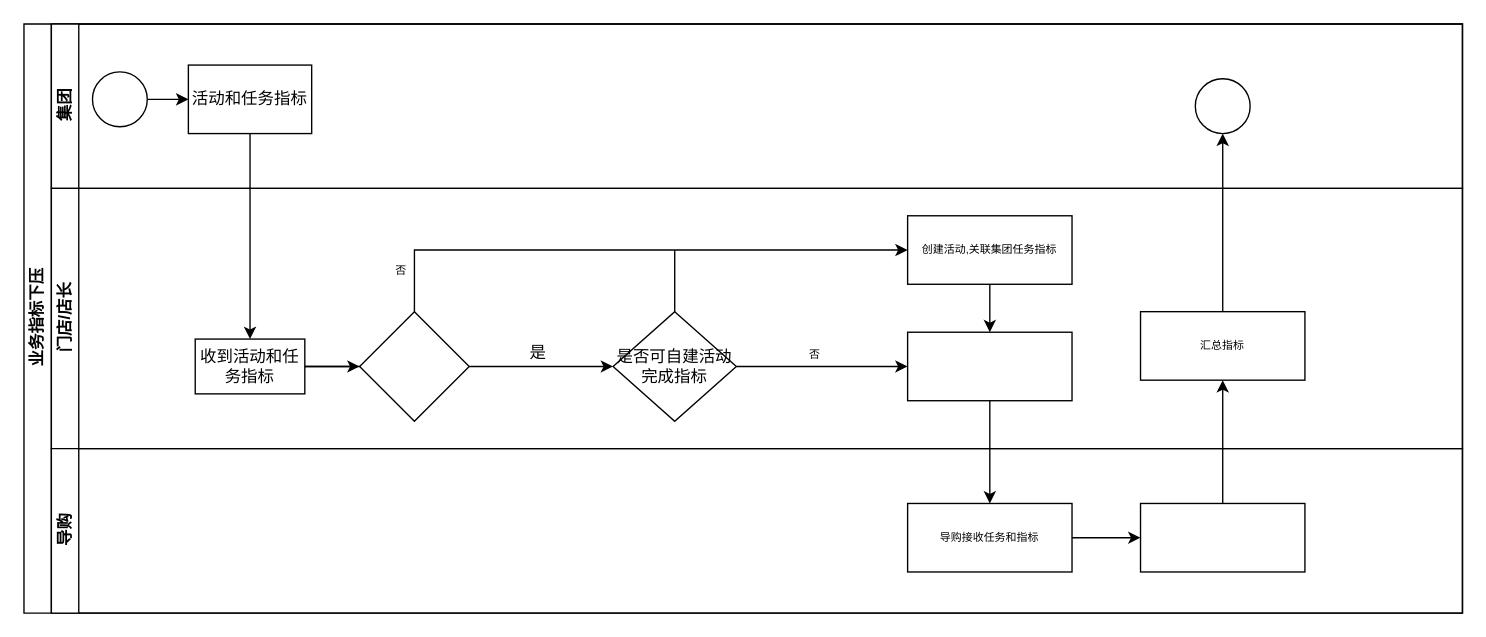
Some shapes in this 1486 by 637 pixel diagram are drawn without their labels. Each missing label, with the centre of its shape:
以活动创建子任务分割指标到导购: the point at 989,366
发布: the point at 119,99
是否同时包含活动和任务指标: the point at 413,365
海报,点赞方式完成指标: the point at 1222,537
结束: the point at 1222,105
